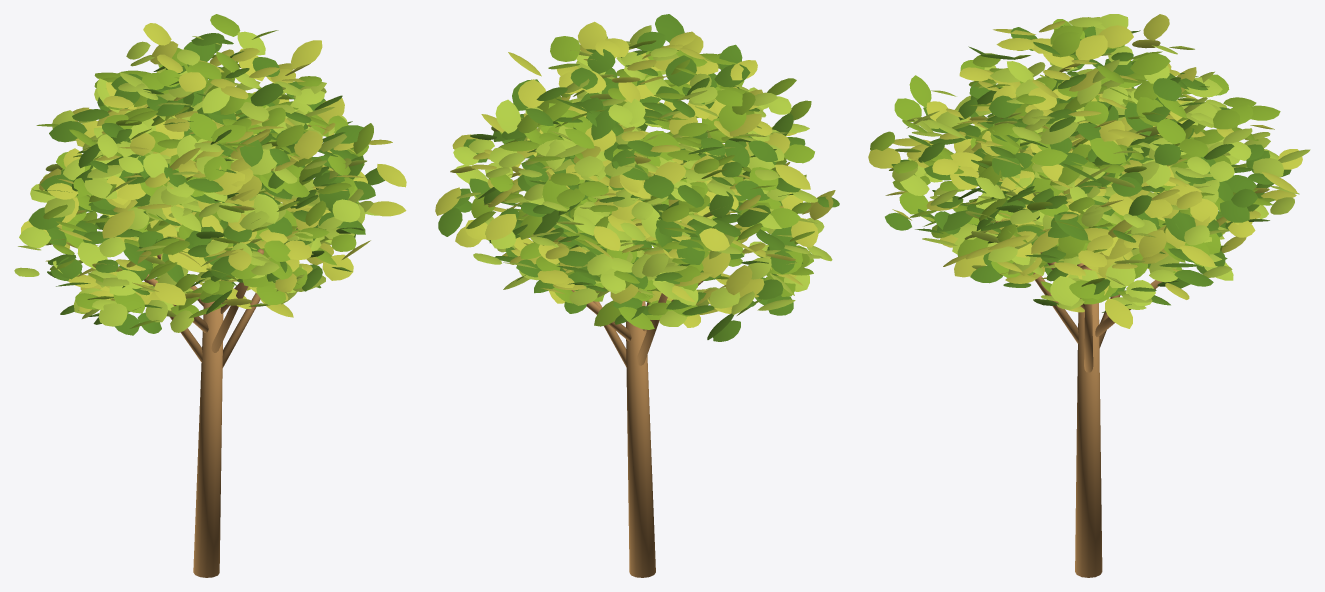
Rendered from FullTree.fbx.
3 renders of one model, left to right at view 1: azimuth 30°, elevation 25°; view 2: azimuth 150°, elevation 25°; view 3: azimuth 270°, elevation 25°, orthographic. The views are drawn at different scales.
Visible parts, largest first — view 1: Shared smooth canopy, Editable tree trunk, Editable tree branch 0, Editable tree branch 2; view 2: Shared smooth canopy, Editable tree trunk; view 3: Shared smooth canopy, Editable tree trunk, Editable tree branch 0.
Part boxes in pixels (x1=…): Shared smooth canopy: x1=14, y1=14, x2=406, y2=335; Editable tree trunk: x1=193, y1=281, x2=223, y2=577; Editable tree branch 0: x1=222, y1=293, x2=260, y2=367; Editable tree branch 2: x1=211, y1=249, x2=263, y2=352; Shared smooth canopy: x1=435, y1=14, x2=839, y2=341; Editable tree trunk: x1=626, y1=301, x2=655, y2=577; Shared smooth canopy: x1=868, y1=14, x2=1310, y2=328; Editable tree trunk: x1=1075, y1=265, x2=1102, y2=577; Editable tree branch 0: x1=1084, y1=304, x2=1093, y2=372.
Size of the model in its own units: 3.15 by 4.4 by 3.24.
